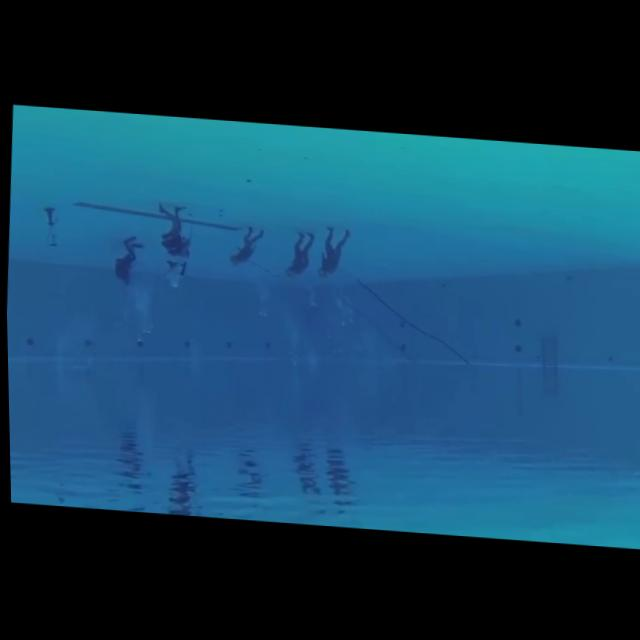human: (149, 196, 198, 265), (309, 216, 356, 284), (105, 227, 148, 296), (217, 220, 265, 280), (274, 222, 317, 285)
